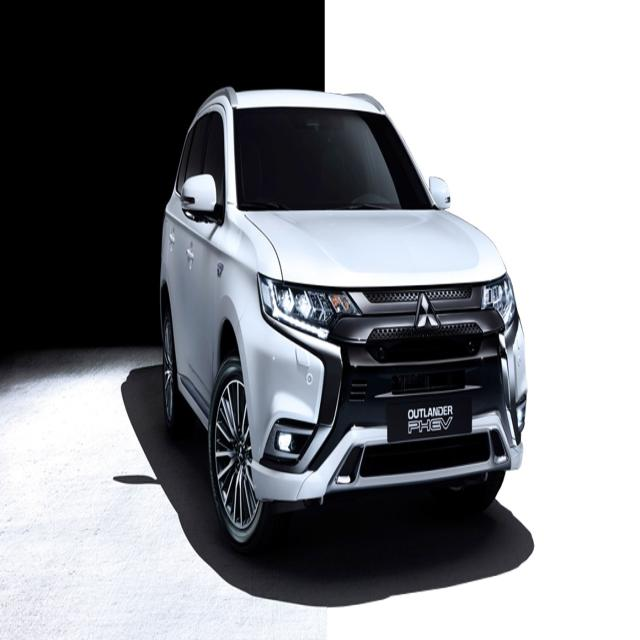light_vehicle: (158, 87, 528, 557)
